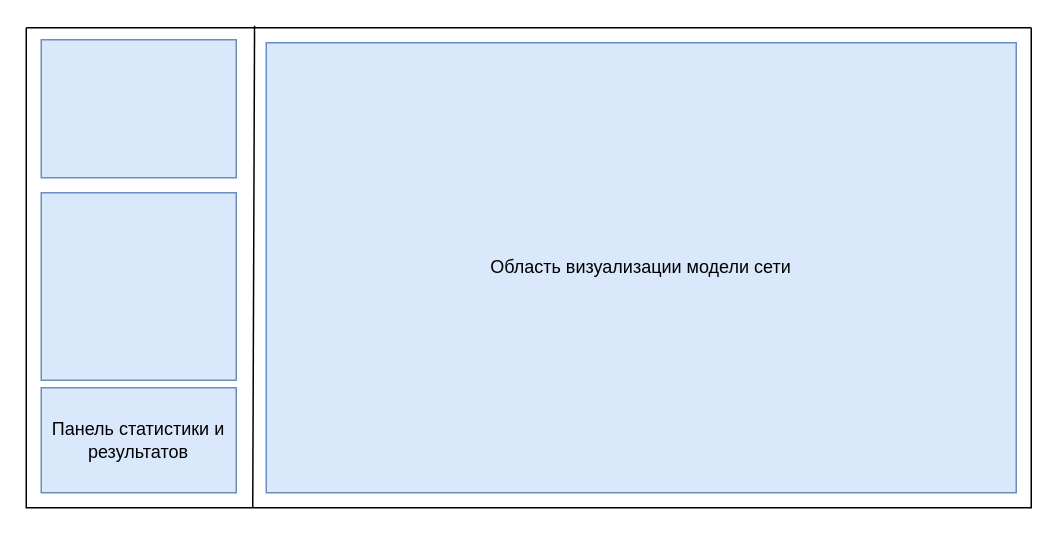
Image size: 1058x537. Some labels were removed from this diagram. The centre of each missing label's shape, as x and y in pixels:
Панель управления алгоритмом: point (138, 285)
Редактор сети: point (138, 108)
